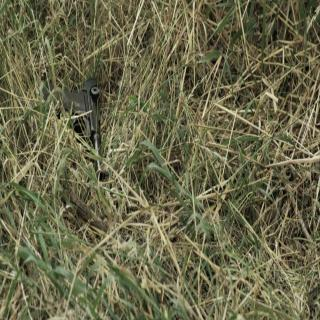gun: (60, 80, 106, 180)
